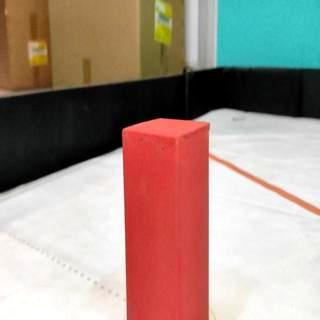redbox: (120, 115, 212, 320)
